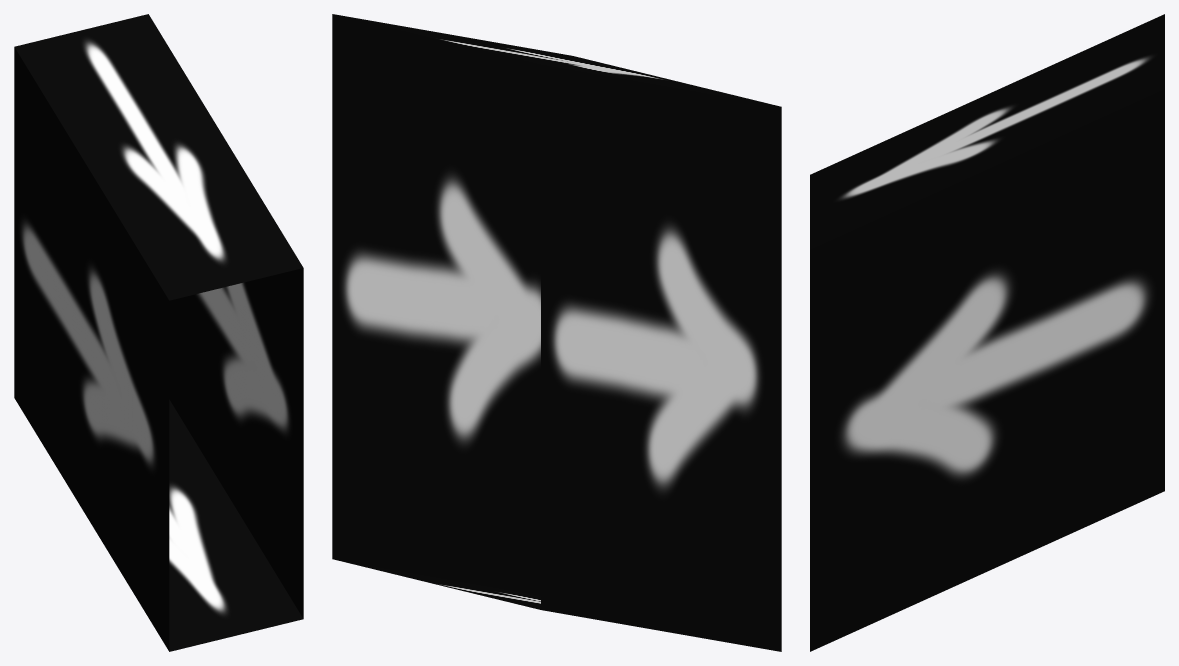
File: godray_2x5.glb
3 views of the same model, side by side, from view 1: azimuth 30°, elevation 25°; view 2: azimuth 150°, elevation 25°; view 3: azimuth 270°, elevation 25° (orthographic). The views are drawn at different scales.
Visible parts, largest first — view 1: Cube; view 2: Cube; view 3: Cube.
Boxes of the visible parts, x1,y1,x2,y2 form: Cube: (14, 14, 303, 651); Cube: (332, 14, 781, 651); Cube: (810, 14, 1164, 651).
Bounding box in the file's own units: 2 × 7 × 4.
1 material, 1 textured.
